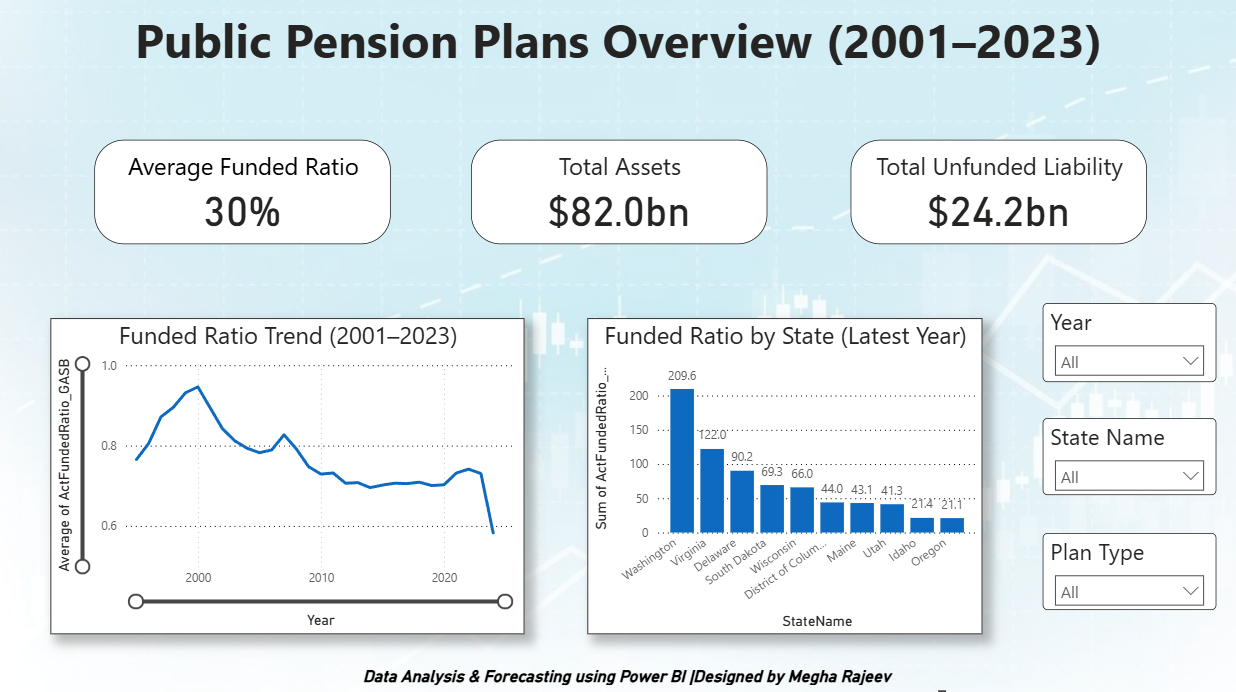

Layout of this report page (visuals, bound fields, positions):
{"tool":"powerbi","page":{"name":"Overview","canvas":[1280,720],"ordinal":0},"visuals":[{"type":"textbox","box":[112,16,1056,96],"z":0},{"type":"card","title":"Total Assets","fields":{"Values":["cleaned_data.Total Assets"]},"box":[490.3,154.7,300.3,105.7],"z":1000},{"type":"card","title":"Total Unfunded Liability","fields":{"Values":["cleaned_data.Total UAAL"]},"box":[874.8,154.7,300.3,105.7],"z":2000},{"type":"card","title":"Average Funded Ratio","fields":{"Values":["cleaned_data.Average Funded Ratio"]},"box":[108.8,154.7,300.3,105.7],"z":3000},{"type":"lineChart","title":"Funded Ratio Trend (2001–2023)","fields":{"Category":["cleaned_data.Year"],"Y":["cleaned_data.ActFundedRatio_GASB"]},"box":[64,336,480,320],"z":4000},{"type":"clusteredColumnChart","title":"Funded Ratio by State (Latest Year)","fields":{"Category":["cleaned_data.StateName"],"Y":["cleaned_data.ActFundedRatio_GASB"]},"box":[608,336,400,320],"z":5000},{"type":"slicer","title":"Year","fields":{"Values":["cleaned_data.Year"]},"box":[1069.4,320.2,176.2,79.7],"z":6000},{"type":"slicer","title":"State Name","fields":{"Values":["cleaned_data.StateName"]},"box":[1069.4,436.7,176.2,78.1],"z":7000},{"type":"slicer","title":"Plan Type","fields":{"Values":["cleaned_data.PlanType"]},"box":[1069.4,553.1,176.2,78.1],"z":8000},{"type":"textbox","title":"Data Analysis & Forecasting using Power BI |Designed by Megha Rajeev","box":[320,688,656,32],"z":9000}]}

Visuals, with their boxes in screenshot pixels (x1, y1, x2, y2), scaled from the page's 1280x720 canvas onto the 1236x692 screenshot:
textbox: pyautogui.locateOnScreen(108, 15, 1128, 108)
"Total Assets" card: pyautogui.locateOnScreen(473, 149, 763, 250)
"Total Unfunded Liability" card: pyautogui.locateOnScreen(845, 149, 1135, 250)
"Average Funded Ratio" card: pyautogui.locateOnScreen(105, 149, 395, 250)
"Funded Ratio Trend (2001–2023)" lineChart: pyautogui.locateOnScreen(62, 323, 525, 630)
"Funded Ratio by State (Latest Year)" clusteredColumnChart: pyautogui.locateOnScreen(587, 323, 973, 630)
"Year" slicer: pyautogui.locateOnScreen(1033, 308, 1203, 384)
"State Name" slicer: pyautogui.locateOnScreen(1033, 420, 1203, 495)
"Plan Type" slicer: pyautogui.locateOnScreen(1033, 532, 1203, 607)
"Data Analysis & Forecasting using Power BI |Designed by Megha Rajeev" textbox: pyautogui.locateOnScreen(309, 661, 942, 691)
